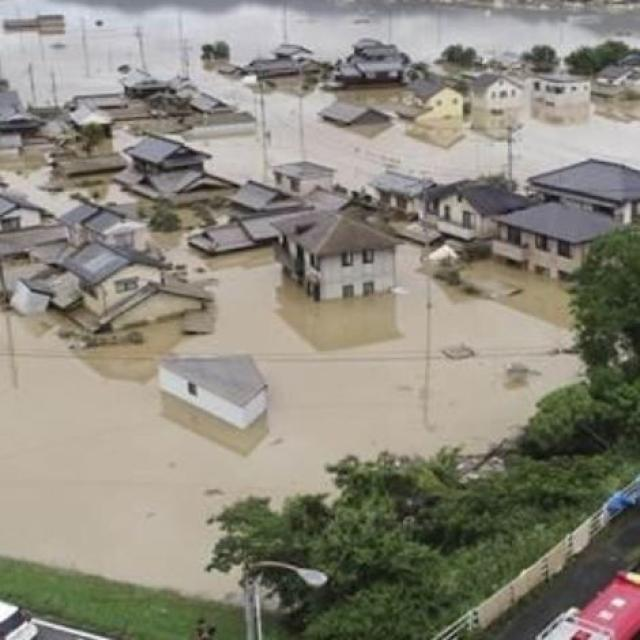flooded_areas: (0, 15, 620, 580)
